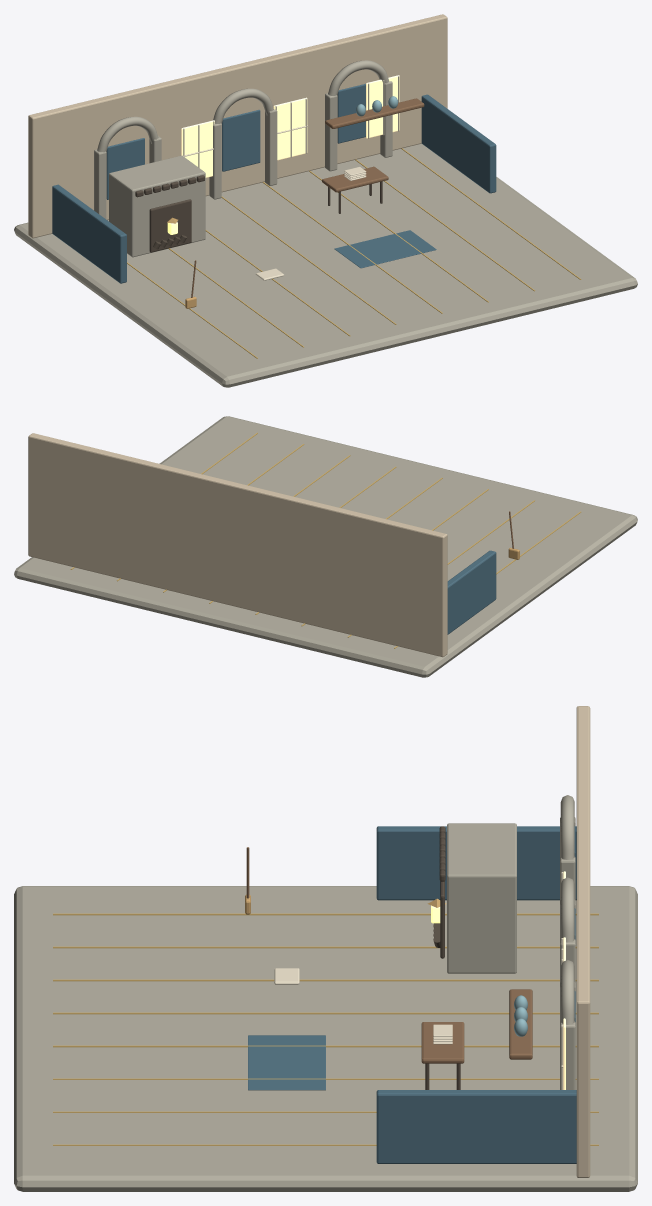
The model's file is cinder_kitchen-D4wFgBgD.glb.
3 views of the same model, one above another, from view 1: azimuth 30°, elevation 25°; view 2: azimuth 150°, elevation 25°; view 3: azimuth 270°, elevation 25° (orthographic). The views are drawn at different scales.
Parts seen in each view (by area): view 1: world_stone.025, world_Story secondary, world_Story primary, world_Window pearl glow, world_Story accent, world_darkwood.025, world_wood.025, world_cream.025; view 2: world_Story secondary, world_stone.025, world_Story primary, world_Story accent; view 3: world_stone.025, world_Story primary, world_Story accent, world_Story secondary, world_wood.025, world_darkwood.025, world_cream.025.
Part boxes in pixels (x1,y1,x2,y2): world_stone.025: [14, 60, 637, 387]; world_Story secondary: [28, 14, 447, 238]; world_Story primary: [52, 83, 496, 283]; world_Window pearl glow: [181, 75, 399, 177]; world_Story accent: [127, 148, 581, 358]; world_darkwood.025: [135, 175, 382, 252]; world_wood.025: [191, 98, 424, 297]; world_cream.025: [183, 76, 399, 180]; world_Story secondary: [28, 433, 447, 657]; world_stone.025: [14, 416, 637, 677]; world_Story primary: [447, 550, 496, 634]; world_Story accent: [70, 432, 581, 648]; world_stone.025: [14, 795, 637, 1191]; world_Story primary: [248, 826, 576, 1163]; world_Story accent: [53, 913, 598, 1145]; world_Story secondary: [576, 706, 590, 1177]; world_wood.025: [246, 847, 532, 1063]; world_darkwood.025: [425, 826, 460, 1089]; world_cream.025: [433, 872, 563, 1089].
Size of the model in its own units: 18 by 5.46 by 16.
